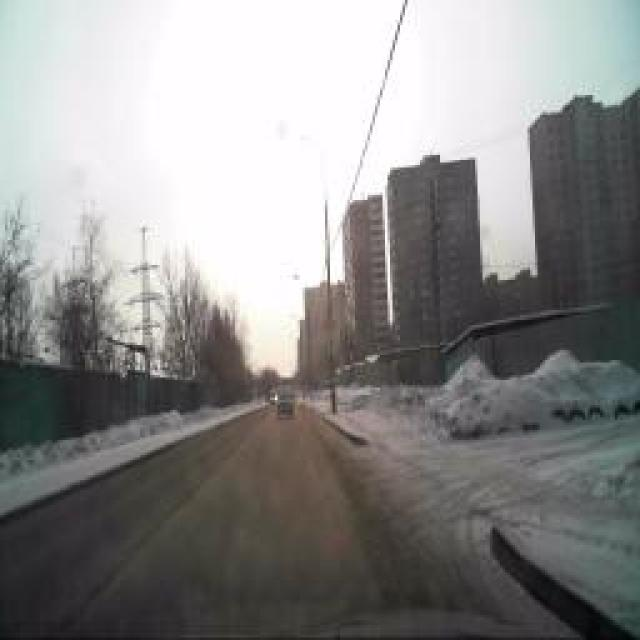sign: (325, 314, 337, 338)
